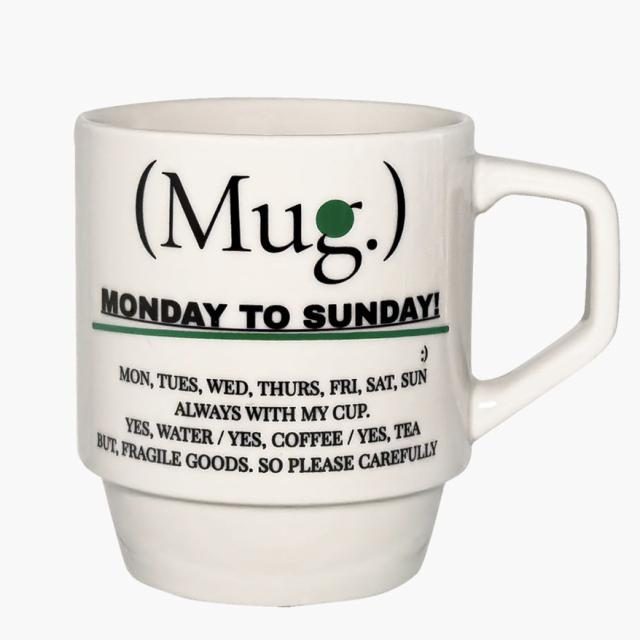recyclable: (58, 67, 640, 611)
